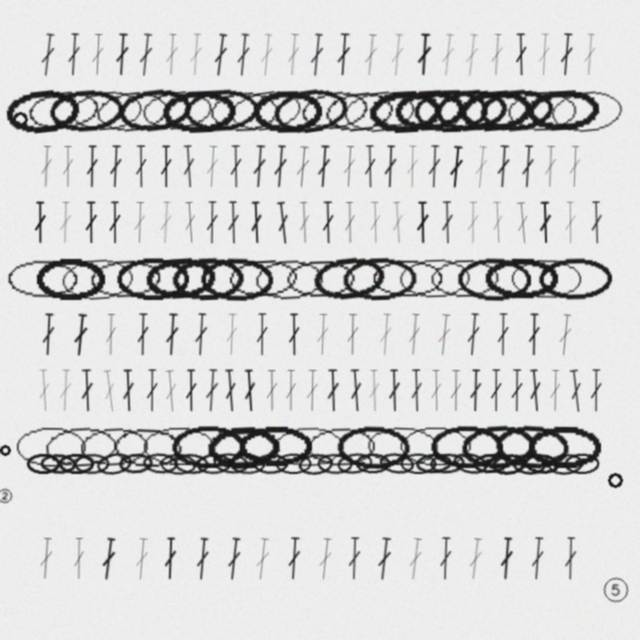chain: (271, 84, 351, 137), (226, 85, 306, 137), (24, 85, 102, 136), (92, 86, 171, 136), (340, 86, 419, 136), (116, 85, 193, 136), (311, 253, 388, 304), (3, 86, 81, 136), (68, 86, 146, 136), (548, 86, 626, 136), (297, 85, 373, 136), (320, 86, 397, 136), (478, 86, 556, 135), (139, 86, 216, 135), (433, 86, 510, 135), (48, 87, 124, 135), (457, 87, 533, 135), (59, 255, 135, 303), (42, 423, 119, 470), (460, 423, 537, 470), (494, 423, 571, 470), (183, 87, 259, 134), (525, 87, 600, 134), (225, 255, 300, 302), (87, 256, 163, 302), (393, 87, 467, 134), (144, 255, 218, 302), (161, 88, 236, 134), (207, 88, 282, 134), (367, 88, 442, 134), (252, 256, 327, 302), (77, 424, 152, 470), (342, 256, 418, 301), (397, 256, 473, 301), (365, 424, 441, 469), (110, 424, 184, 470), (206, 424, 280, 470), (413, 88, 488, 133), (428, 256, 502, 301), (509, 257, 584, 301), (505, 88, 578, 133), (171, 256, 244, 301), (5, 257, 79, 301), (283, 257, 357, 301), (457, 257, 531, 301), (538, 257, 612, 301), (271, 425, 345, 469), (336, 425, 410, 469), (171, 425, 246, 468), (200, 257, 273, 301), (305, 425, 378, 469), (370, 257, 444, 300), (484, 257, 558, 300), (141, 425, 215, 468), (238, 425, 312, 468), (398, 425, 472, 468), (527, 425, 601, 468), (252, 89, 324, 133), (116, 257, 189, 300), (14, 425, 87, 468), (430, 425, 503, 468), (35, 257, 107, 300), (95, 450, 134, 477), (451, 450, 489, 477), (212, 451, 250, 476), (336, 451, 374, 476), (378, 451, 415, 476), (173, 452, 210, 476), (297, 452, 334, 476), (490, 452, 527, 476), (523, 452, 560, 476), (547, 452, 584, 476), (511, 452, 547, 476), (142, 452, 179, 475), (415, 452, 452, 475), (429, 452, 466, 475), (472, 452, 509, 475), (118, 452, 154, 475), (160, 453, 197, 475), (40, 453, 76, 475), (74, 453, 110, 475), (196, 453, 232, 475), (229, 453, 265, 475), (253, 453, 289, 475), (317, 453, 353, 475), (275, 453, 312, 474), (400, 453, 437, 474), (58, 453, 94, 474), (355, 453, 391, 474), (564, 453, 600, 474), (26, 453, 61, 474)
double: (211, 33, 230, 77), (71, 313, 90, 357), (100, 369, 119, 413), (99, 537, 118, 581), (253, 537, 272, 581), (375, 537, 394, 581), (406, 537, 425, 581), (466, 537, 485, 581), (39, 33, 57, 77), (137, 33, 155, 77), (308, 33, 326, 77), (362, 33, 380, 77), (439, 33, 457, 77), (463, 33, 481, 77), (294, 145, 312, 189), (472, 145, 490, 189), (274, 201, 292, 245), (435, 313, 453, 357), (556, 313, 574, 357), (162, 369, 180, 413), (567, 369, 585, 413), (133, 537, 151, 581), (225, 537, 243, 581), (316, 537, 334, 581), (37, 537, 55, 580), (235, 33, 252, 77), (258, 33, 275, 77), (389, 33, 406, 77), (448, 145, 465, 189), (514, 201, 531, 245), (194, 537, 211, 581), (285, 33, 302, 76), (335, 33, 352, 76), (416, 33, 433, 76), (558, 33, 575, 76), (251, 145, 268, 188), (272, 145, 289, 188), (495, 145, 512, 188), (377, 313, 394, 356), (406, 313, 423, 356), (465, 313, 482, 356), (36, 369, 53, 412), (222, 369, 239, 412), (527, 369, 544, 412), (498, 537, 515, 580), (529, 537, 546, 580), (66, 33, 82, 76), (114, 33, 130, 76), (164, 33, 180, 76), (188, 33, 204, 76), (489, 33, 505, 76), (536, 33, 552, 76), (582, 33, 598, 76), (181, 145, 197, 188), (204, 145, 220, 188), (316, 145, 332, 188), (341, 145, 357, 188), (520, 145, 536, 188), (158, 201, 174, 244), (182, 201, 198, 244), (390, 201, 406, 244), (164, 313, 180, 356), (193, 313, 209, 356), (79, 369, 95, 412), (204, 369, 220, 412), (242, 369, 258, 412), (325, 369, 341, 412), (348, 369, 364, 412), (286, 537, 302, 580), (90, 33, 105, 76), (39, 145, 54, 188), (108, 145, 123, 188), (383, 145, 398, 188), (405, 145, 420, 188), (427, 145, 442, 188), (543, 145, 558, 188), (567, 145, 582, 188), (58, 201, 73, 244), (132, 201, 147, 244), (226, 201, 241, 244), (249, 201, 264, 244), (297, 201, 312, 244), (415, 201, 430, 244), (440, 201, 455, 244), (490, 201, 505, 244), (538, 201, 553, 244), (563, 201, 578, 244), (589, 201, 604, 244), (41, 313, 56, 356), (224, 313, 239, 356), (315, 313, 330, 356), (345, 313, 360, 356), (58, 369, 73, 412), (121, 369, 136, 412), (367, 369, 382, 412), (387, 369, 402, 412), (409, 369, 424, 412), (468, 369, 483, 412), (163, 537, 178, 580), (347, 537, 362, 580), (438, 537, 453, 580), (563, 537, 578, 580), (514, 33, 528, 76), (61, 145, 75, 188), (85, 145, 99, 188), (134, 145, 148, 188), (159, 145, 173, 188), (229, 145, 243, 188), (363, 145, 377, 188), (33, 201, 47, 244), (84, 201, 98, 244), (108, 201, 122, 244), (205, 201, 219, 244), (321, 201, 335, 244), (343, 201, 357, 244), (368, 201, 382, 244), (466, 201, 480, 244), (104, 313, 118, 356), (136, 313, 150, 356), (255, 313, 269, 356), (287, 313, 301, 356), (496, 313, 510, 356), (527, 313, 541, 356), (145, 369, 159, 412), (184, 369, 198, 412), (265, 369, 279, 412), (284, 369, 298, 412), (305, 369, 319, 412), (429, 369, 443, 412), (449, 369, 463, 412), (489, 369, 503, 412), (510, 369, 524, 412), (548, 369, 562, 412), (589, 369, 603, 412), (72, 537, 86, 580)
noise: (601, 575, 630, 604), (606, 471, 625, 490), (11, 110, 29, 128), (0, 486, 14, 505), (0, 444, 12, 457)
